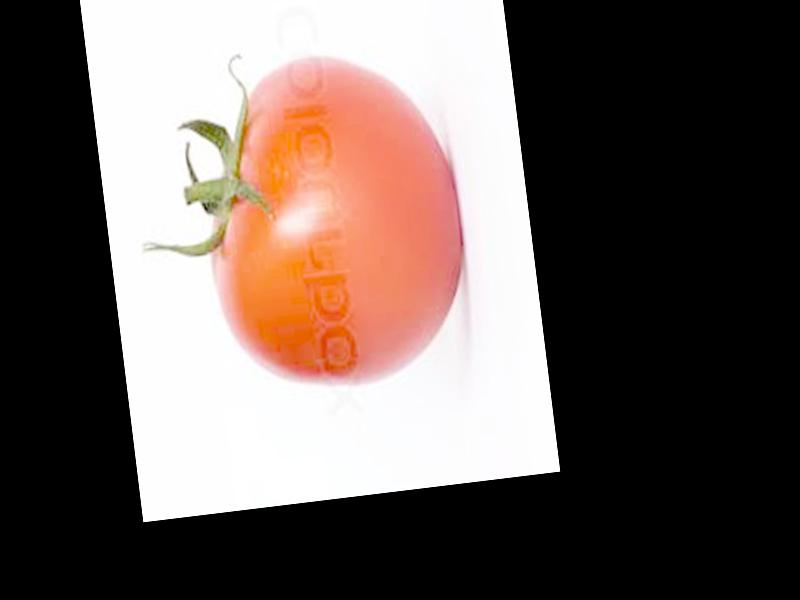Tomato: (188, 45, 475, 399)
